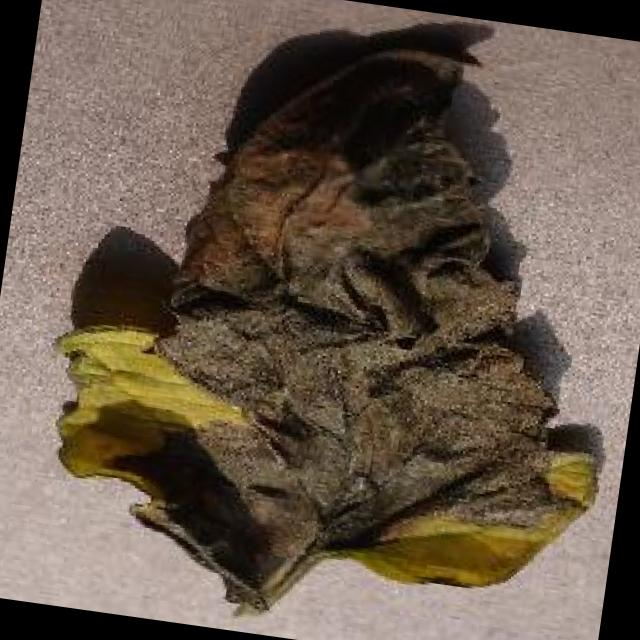Tomato_Late_Blight: (30, 13, 640, 633)
